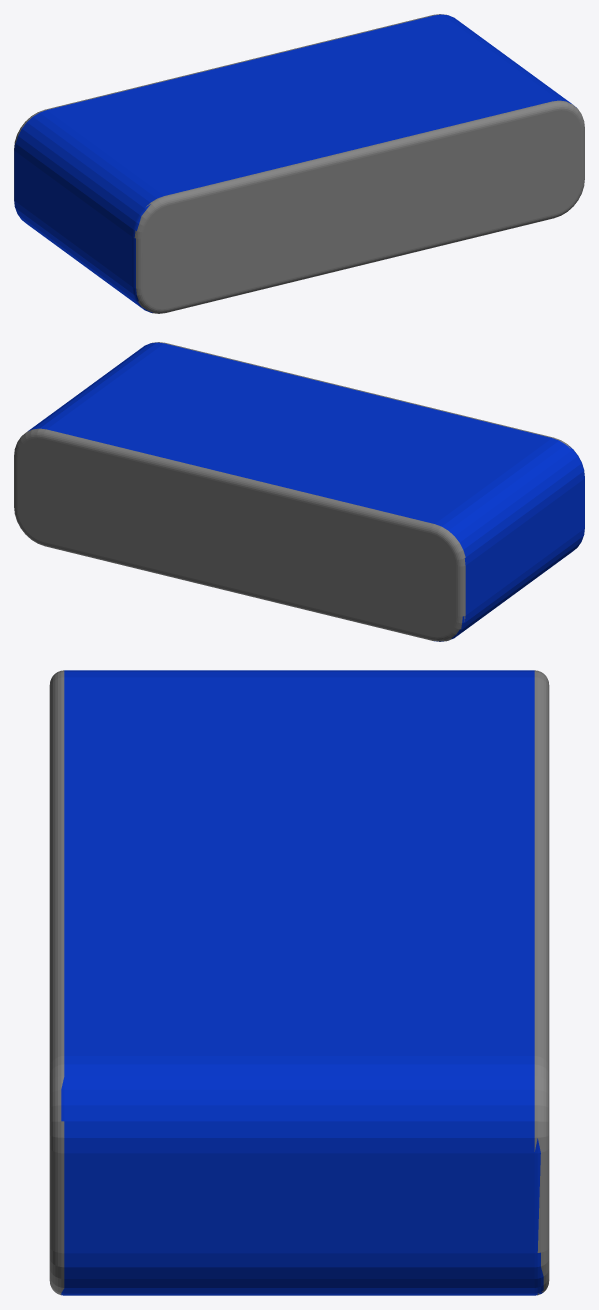
File: battery.glb
3 renders of one model, top to bottom at view 1: azimuth 30°, elevation 25°; view 2: azimuth 150°, elevation 25°; view 3: azimuth 270°, elevation 25°, orthographic. The views are drawn at different scales.
Visible parts, largest first — view 1: battery_01; view 2: battery_01; view 3: battery_01.
Boxes of the visible parts, <box> form: battery_01: <box>14,14,584,313</box>; battery_01: <box>14,342,584,641</box>; battery_01: <box>49,670,549,1295</box>.
Bounding box in the file's own units: 71 × 17.5 × 34.
